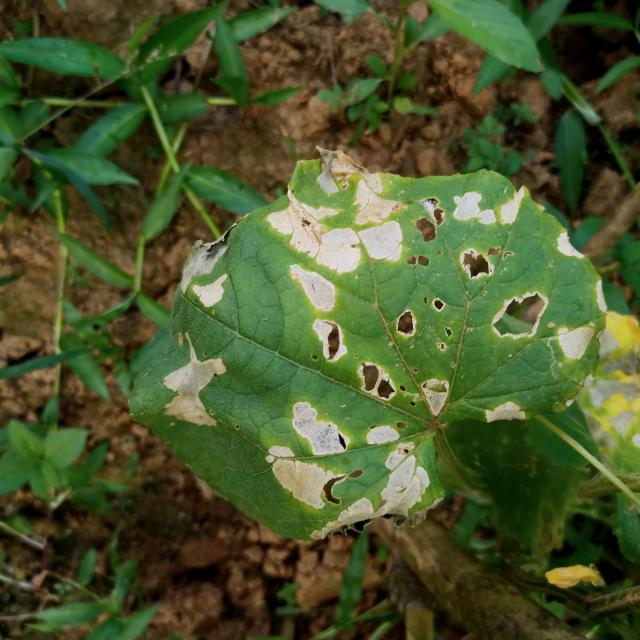disease_cucumber: (168, 171, 570, 543)
